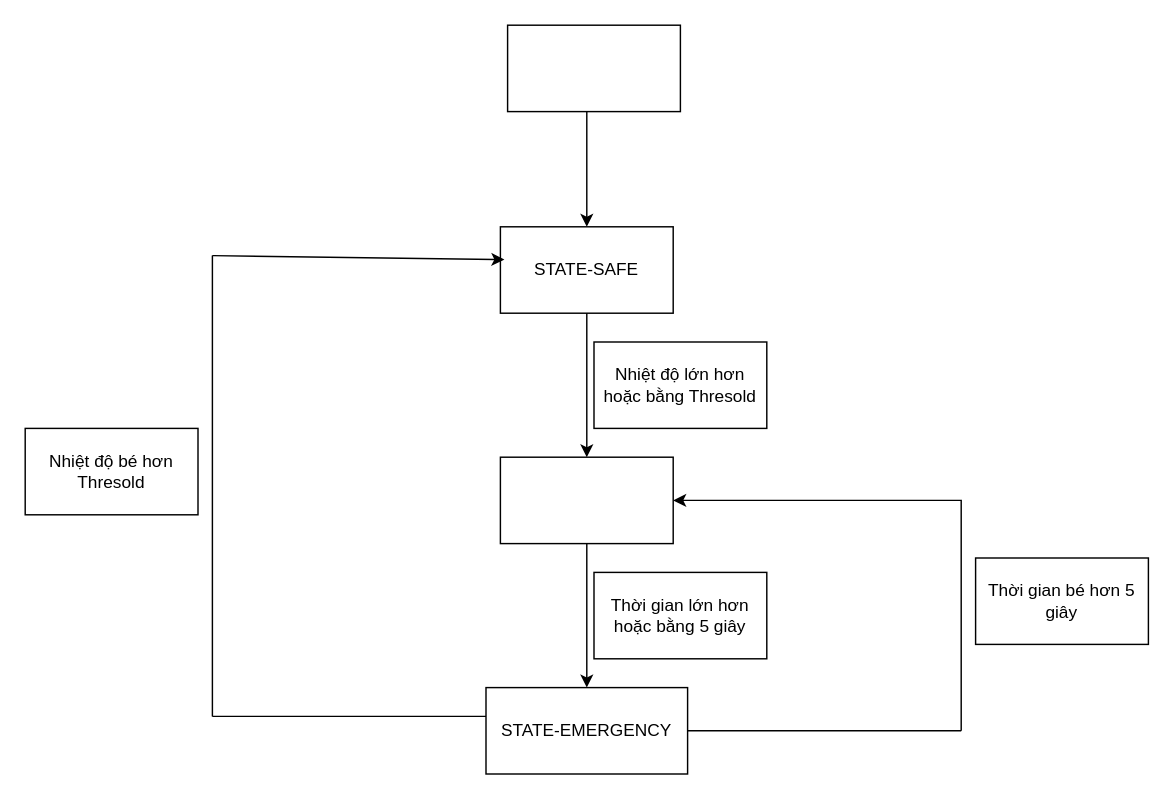
Image size: 1174x799. Some labels were removed from this diagram. Each missing label, with the box of its shape:
Khởi động: (506, 24, 680, 112)
SATE-WARNING: (499, 456, 673, 544)
